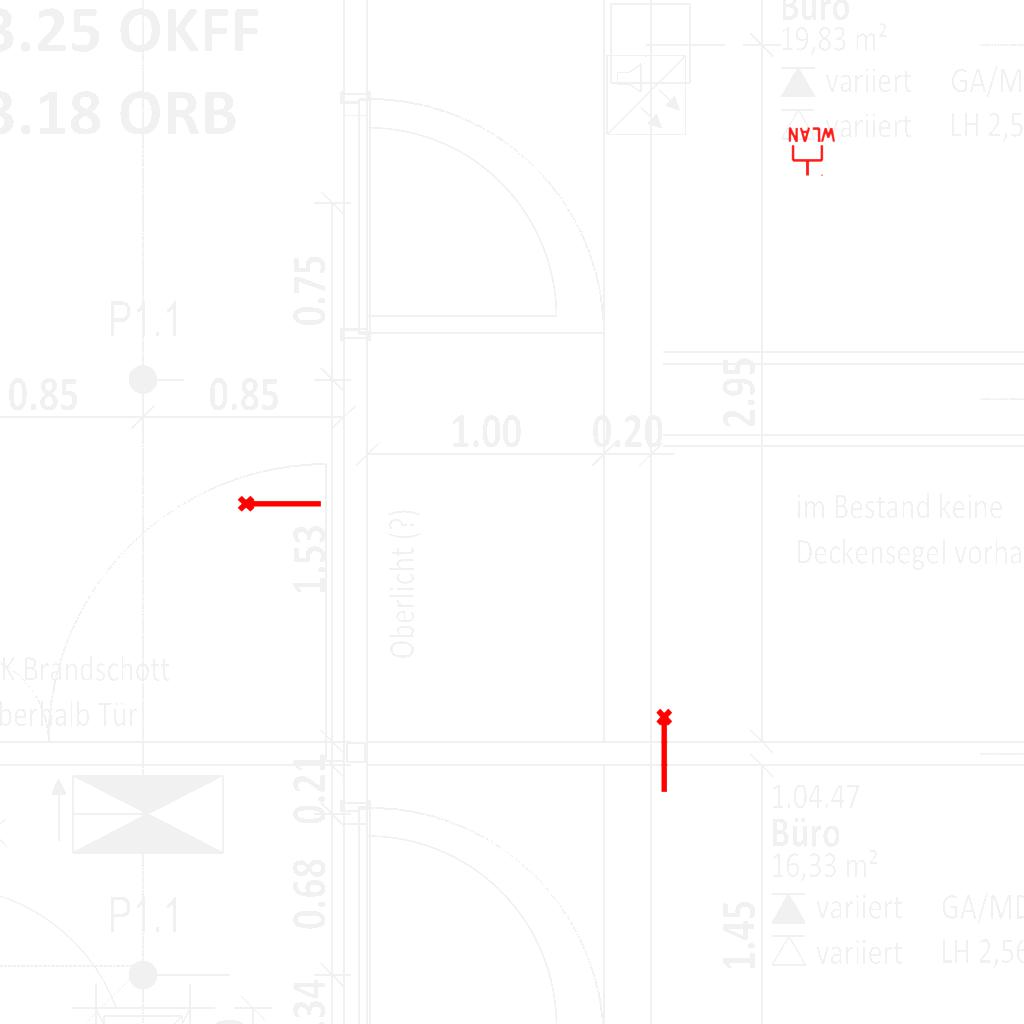ASR_Ansaugoeffnung: (236, 491, 324, 514), (654, 707, 677, 795)
WLAN: (786, 126, 838, 178)
